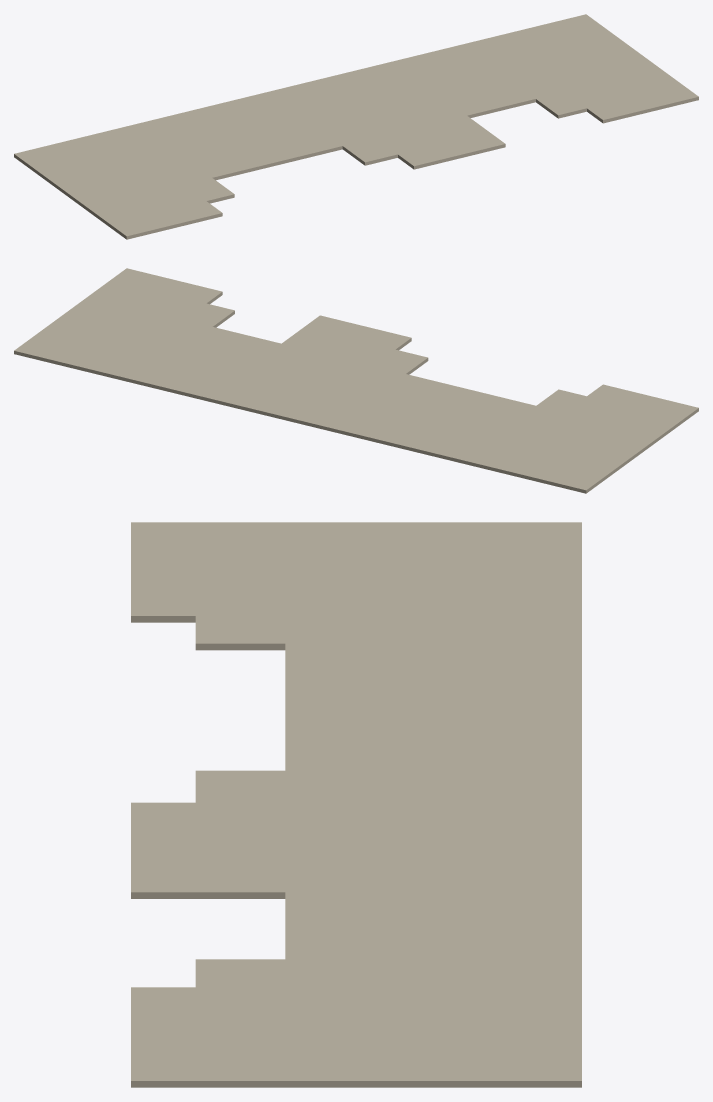
3 views of the same model, one above another, from view 1: azimuth 30°, elevation 25°; view 2: azimuth 150°, elevation 25°; view 3: azimuth 270°, elevation 25° (orthographic). The views are drawn at different scales.
Parts seen in each view (by area): view 1: A-GF-SLAB; view 2: A-GF-SLAB; view 3: A-GF-SLAB.
Boxes of the visible parts, x1,y1,x2,y2 form: A-GF-SLAB: [14, 14, 698, 239]; A-GF-SLAB: [14, 268, 698, 493]; A-GF-SLAB: [131, 522, 581, 1087].
Bounding box in the file's own units: 26.55 × 0.15 × 9.06.
